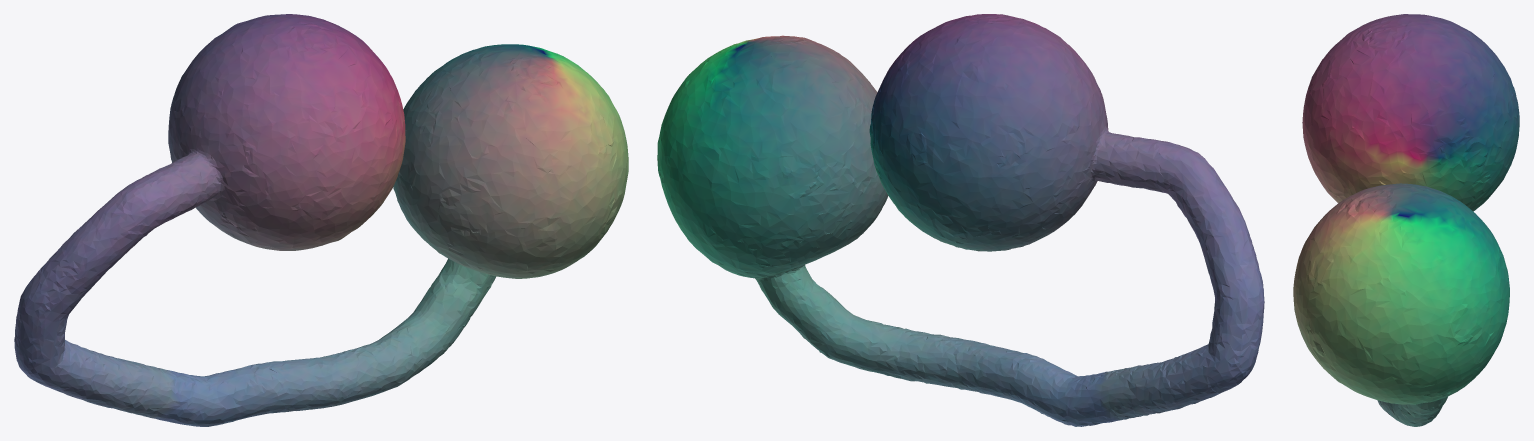
File: twoballs-13.off.obj
3 renders of one model, left to right at view 1: azimuth 30°, elevation 25°; view 2: azimuth 150°, elevation 25°; view 3: azimuth 270°, elevation 25°, orthographic. The views are drawn at different scales.
Size of the model in its own units: 1.6 by 0.9866 by 0.5829.
